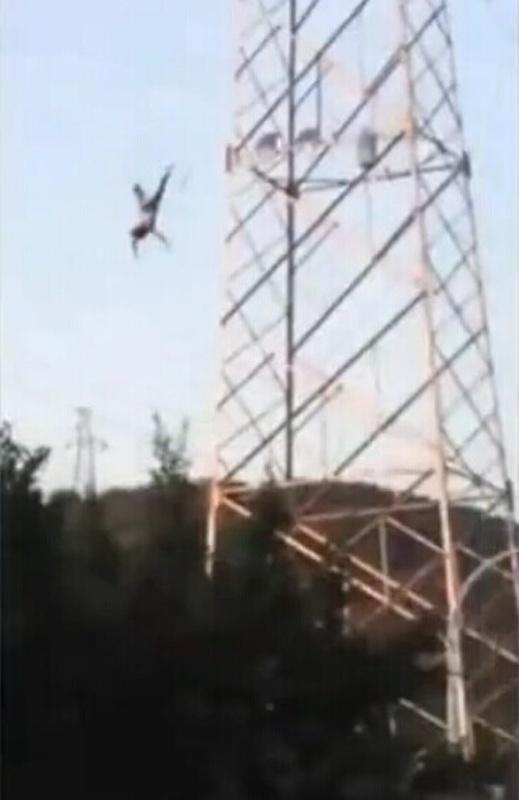power_tower: (202, 4, 506, 482)
